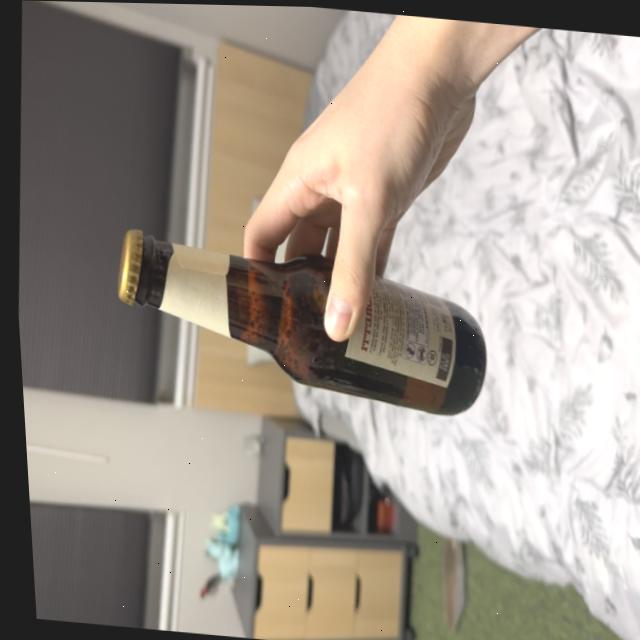beer: (99, 219, 495, 419)
